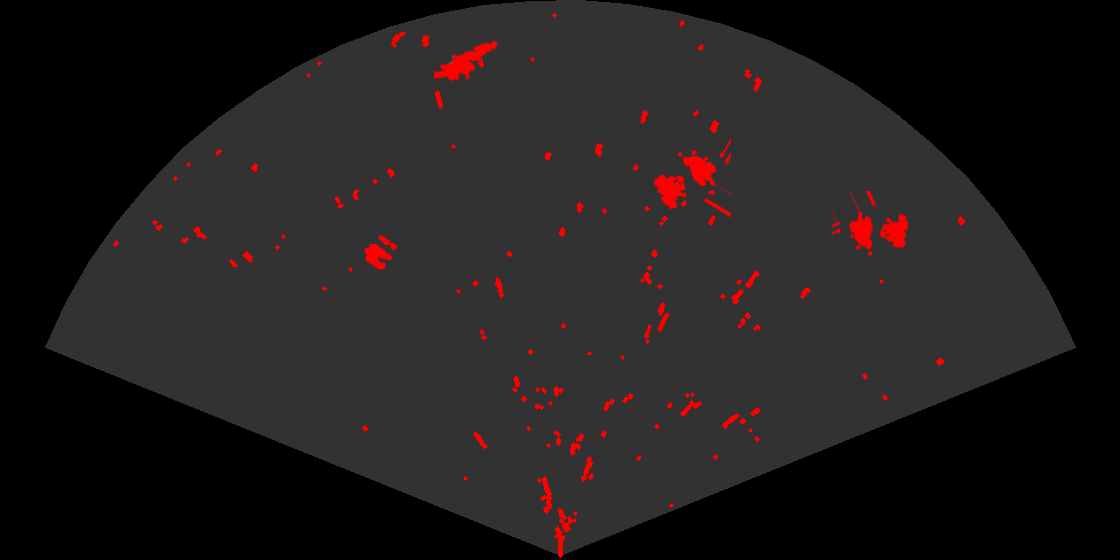ball: (363, 234, 399, 271)
cage: (652, 138, 731, 219), (832, 191, 910, 258)
frogman: (434, 39, 500, 83)
